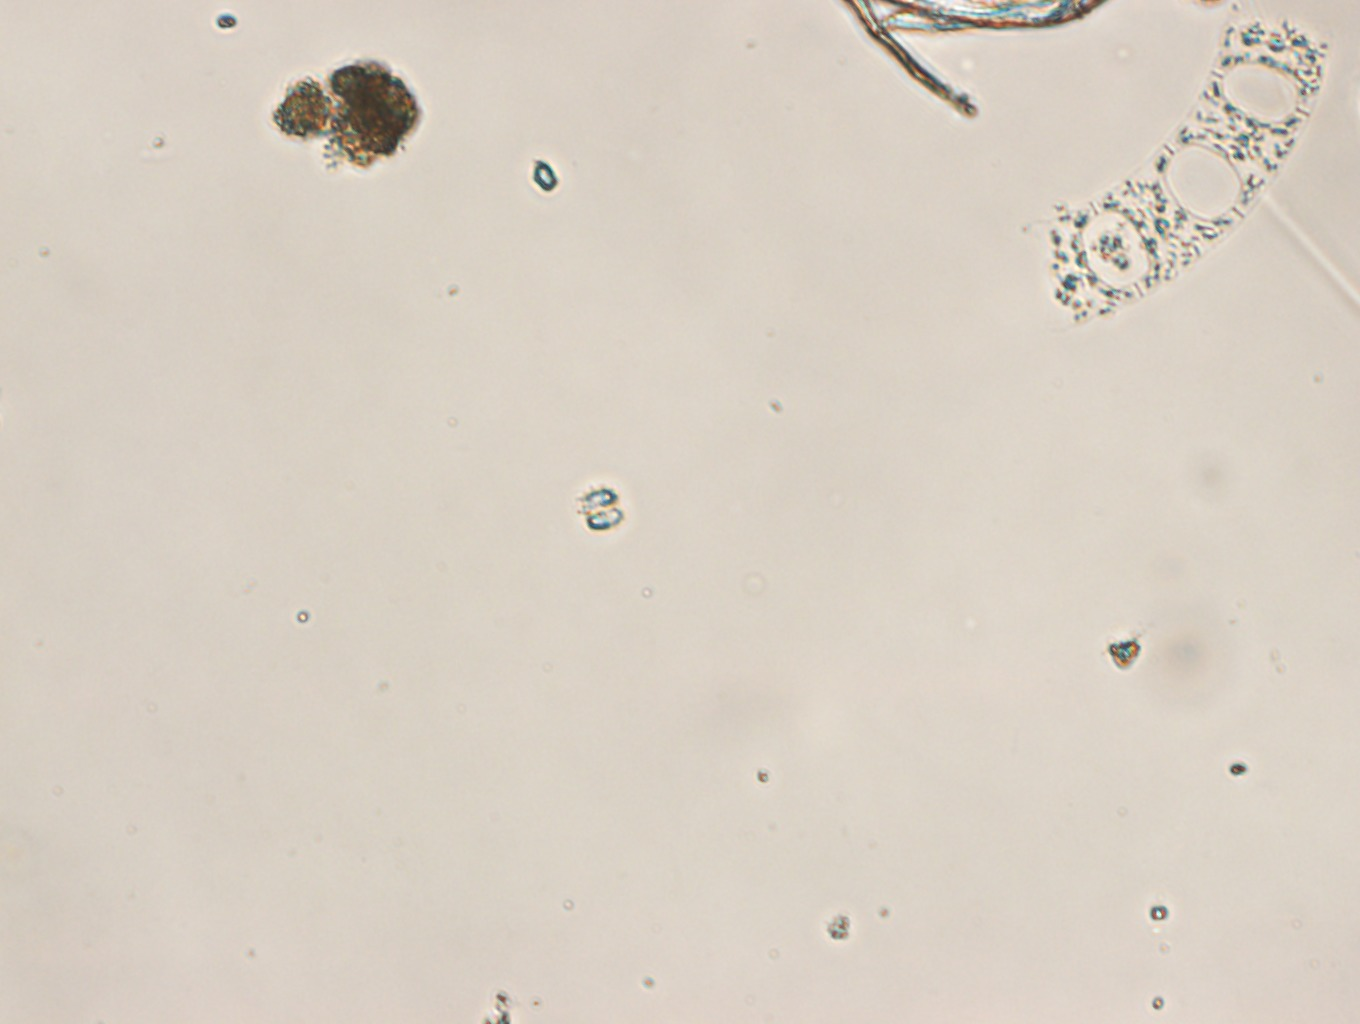eucampia: (1025, 19, 1328, 328)
